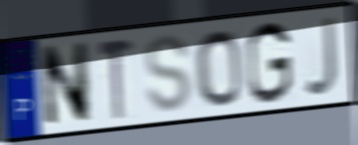G: (245, 19, 294, 106)
J: (301, 14, 339, 99)
N: (39, 39, 92, 131)
O: (193, 28, 244, 108)
S: (142, 33, 193, 115)
T: (95, 37, 136, 122)
